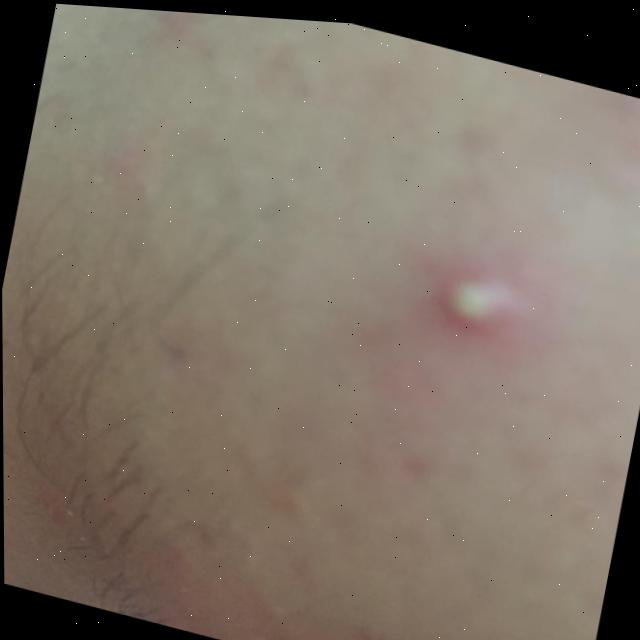Acne: (430, 268, 514, 349)
